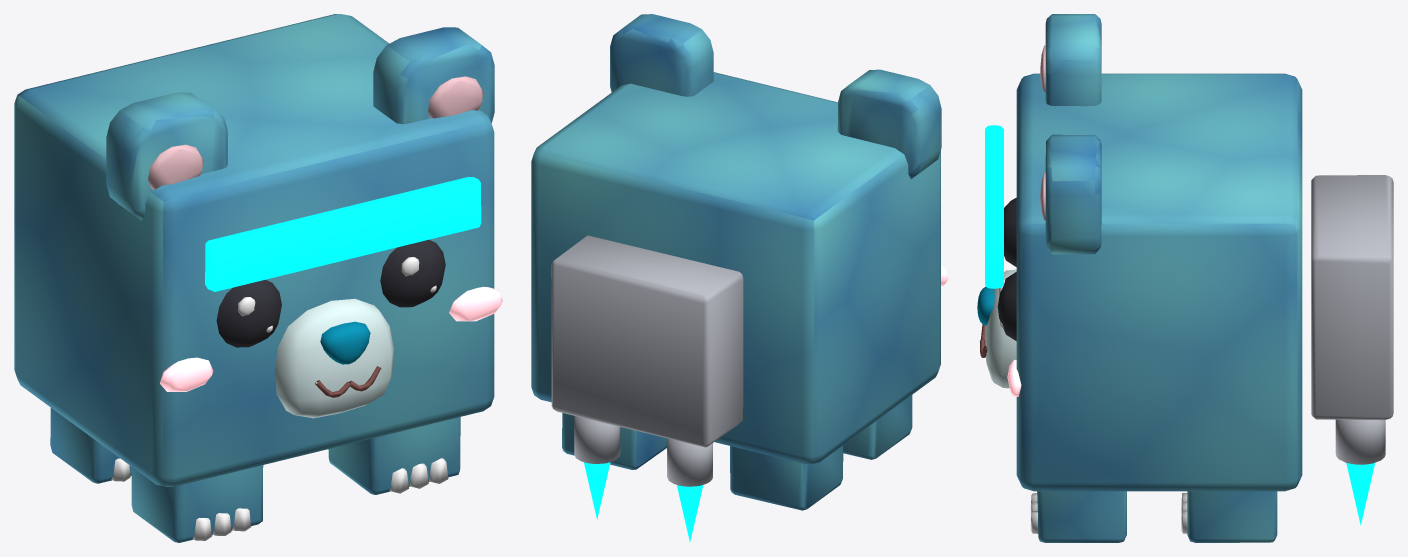
The model's file is Pet_Pulsar.fbx.
3 renders of one model, left to right at view 1: azimuth 30°, elevation 25°; view 2: azimuth 150°, elevation 25°; view 3: azimuth 270°, elevation 25°, orthographic. The views are drawn at different scales.
Visible parts, largest first — view 1: Pet_Pulsar_body, Pet_Pulsar_ears, Pet_Pulsar_feet, Pet_Pulsar_acc_visor, Pet_Pulsar_muzzle, Pet_Pulsar_eyes, Pet_Pulsar, Pet_Pulsar_toes, Pet_Pulsar_cute_innerear_-1, Pet_Pulsar_nose, Pet_Pulsar_cute_blush_-1; view 2: Pet_Pulsar_body, Pet_Pulsar_acc_jetpack, Pet_Pulsar_ears, Pet_Pulsar_feet, Pet_Pulsar_acc_nozzle-1, Pet_Pulsar_acc_nozzle1, Pet_Pulsar_acc_flame-1, Pet_Pulsar_acc_flame1; view 3: Pet_Pulsar_body, Pet_Pulsar_acc_jetpack, Pet_Pulsar_ears, Pet_Pulsar_feet, Pet_Pulsar_acc_visor, Pet_Pulsar_acc_nozzle1, Pet_Pulsar_muzzle, Pet_Pulsar_eyes, Pet_Pulsar_acc_flame1, Pet_Pulsar, Pet_Pulsar_toes, Pet_Pulsar_nose.
Boxes of the visible parts, left/top/right/bottom form: Pet_Pulsar_body: left=14, top=14, right=494, bottom=486; Pet_Pulsar_ears: left=106, top=27, right=494, bottom=220; Pet_Pulsar_feet: left=50, top=408, right=460, bottom=542; Pet_Pulsar_acc_visor: left=205, top=177, right=481, bottom=291; Pet_Pulsar_muzzle: left=275, top=298, right=393, bottom=418; Pet_Pulsar_eyes: left=216, top=239, right=445, bottom=347; Pet_Pulsar: left=401, top=76, right=502, bottom=321; Pet_Pulsar_toes: left=111, top=458, right=448, bottom=540; Pet_Pulsar_cute_innerear_-1: left=148, top=144, right=203, bottom=189; Pet_Pulsar_nose: left=320, top=321, right=370, bottom=364; Pet_Pulsar_cute_blush_-1: left=160, top=357, right=213, bottom=391; Pet_Pulsar_body: left=531, top=72, right=940, bottom=464; Pet_Pulsar_acc_jetpack: left=551, top=235, right=743, bottom=447; Pet_Pulsar_ears: left=610, top=14, right=941, bottom=179; Pet_Pulsar_feet: left=562, top=395, right=912, bottom=510; Pet_Pulsar_acc_nozzle-1: left=667, top=438, right=712, bottom=486; Pet_Pulsar_acc_nozzle1: left=574, top=416, right=620, bottom=463; Pet_Pulsar_acc_flame-1: left=677, top=485, right=703, bottom=542; Pet_Pulsar_acc_flame1: left=584, top=462, right=610, bottom=519; Pet_Pulsar_body: left=1016, top=73, right=1302, bottom=491; Pet_Pulsar_acc_jetpack: left=1311, top=175, right=1393, bottom=420; Pet_Pulsar_ears: left=1045, top=14, right=1101, bottom=254; Pet_Pulsar_feet: left=1037, top=491, right=1277, bottom=542; Pet_Pulsar_acc_visor: left=985, top=125, right=1003, bottom=288; Pet_Pulsar_acc_nozzle1: left=1335, top=419, right=1385, bottom=464; Pet_Pulsar_muzzle: left=985, top=269, right=1016, bottom=388; Pet_Pulsar_eyes: left=997, top=197, right=1016, bottom=341; Pet_Pulsar_acc_flame1: left=1346, top=463, right=1374, bottom=525; Pet_Pulsar: left=998, top=172, right=1045, bottom=396; Pet_Pulsar_toes: left=1030, top=493, right=1187, bottom=533; Pet_Pulsar_nose: left=977, top=286, right=994, bottom=325.
Bounding box in the file's own units: 2.35 × 2.75 × 2.5.
13 materials, 3 textured.
